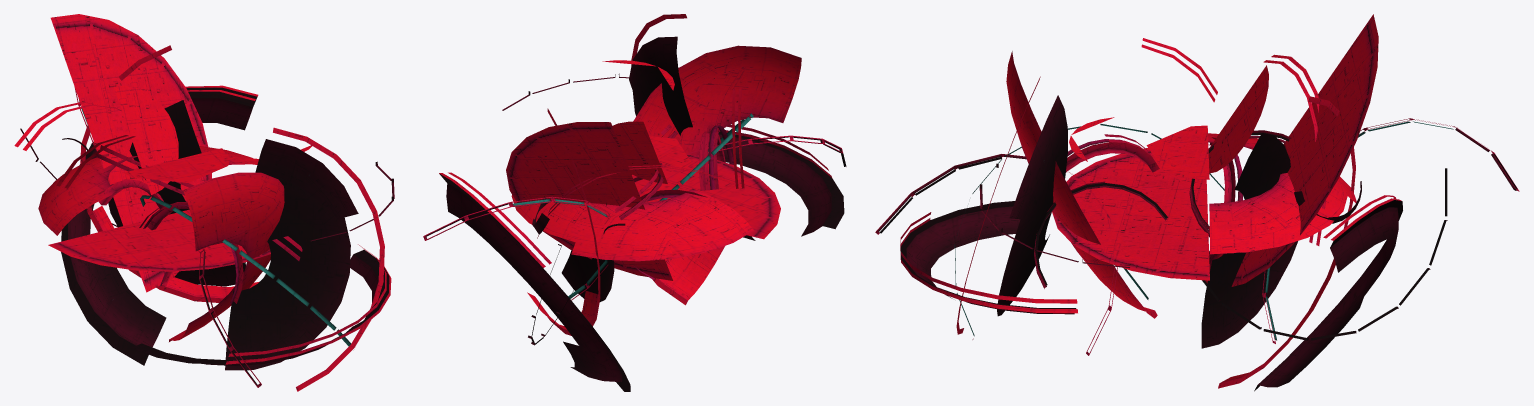
Rendered from MonsterB_Die14.obj.
3 renders of one model, left to right at view 1: azimuth 30°, elevation 25°; view 2: azimuth 150°, elevation 25°; view 3: azimuth 270°, elevation 25°, orthographic. The views are drawn at different scales.
Parts seen in each view (by area): view 1: Sphere001; view 2: Sphere001; view 3: Sphere001.
Boxes of the visible parts, bbox=[...] form: Sphere001: bbox=[14, 14, 394, 391]; Sphere001: bbox=[423, 14, 846, 391]; Sphere001: bbox=[875, 14, 1519, 391].
Size of the model in its own units: 238 by 242 by 397.
Materials: 1 (1 with a texture image).
